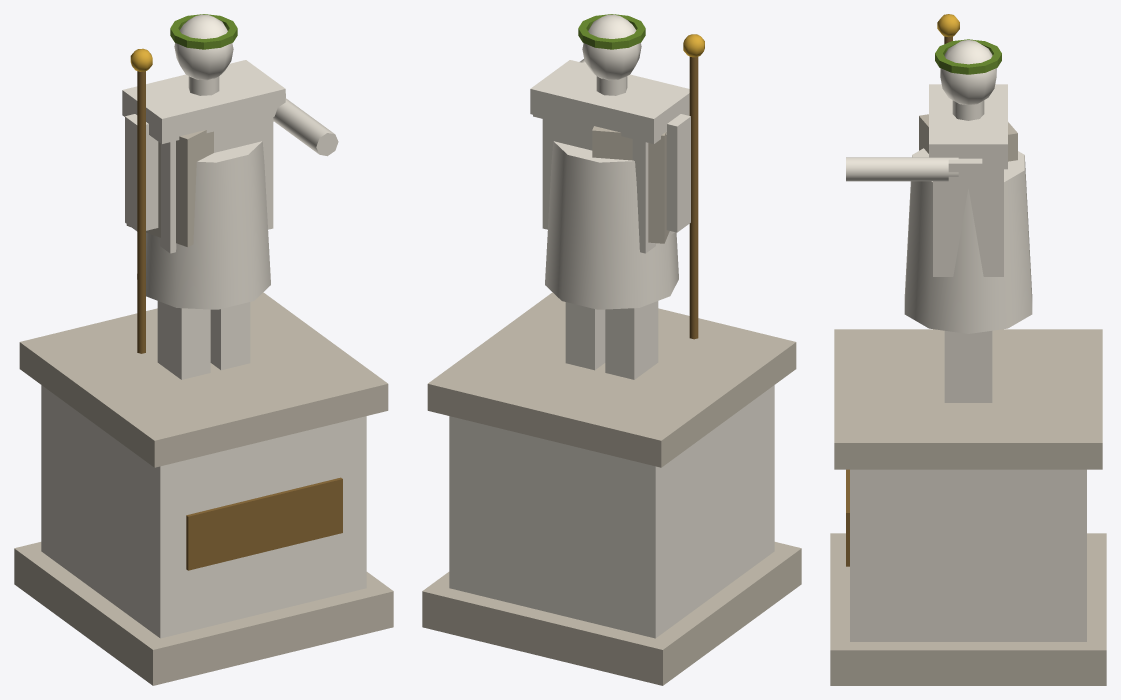
The model's file is im_statue_emperor.glb.
3 renders of one model, left to right at view 1: azimuth 30°, elevation 25°; view 2: azimuth 150°, elevation 25°; view 3: azimuth 270°, elevation 25°, orthographic.
Visible parts, largest first — view 1: im_statue_emperor; view 2: im_statue_emperor; view 3: im_statue_emperor.
Part boxes in pixels (left/top/right/bottom): im_statue_emperor: left=14, top=14, right=393, bottom=685; im_statue_emperor: left=422, top=14, right=801, bottom=685; im_statue_emperor: left=830, top=14, right=1106, bottom=685.
Bounding box in the file's own units: 1.4 × 3.27 × 1.4.
